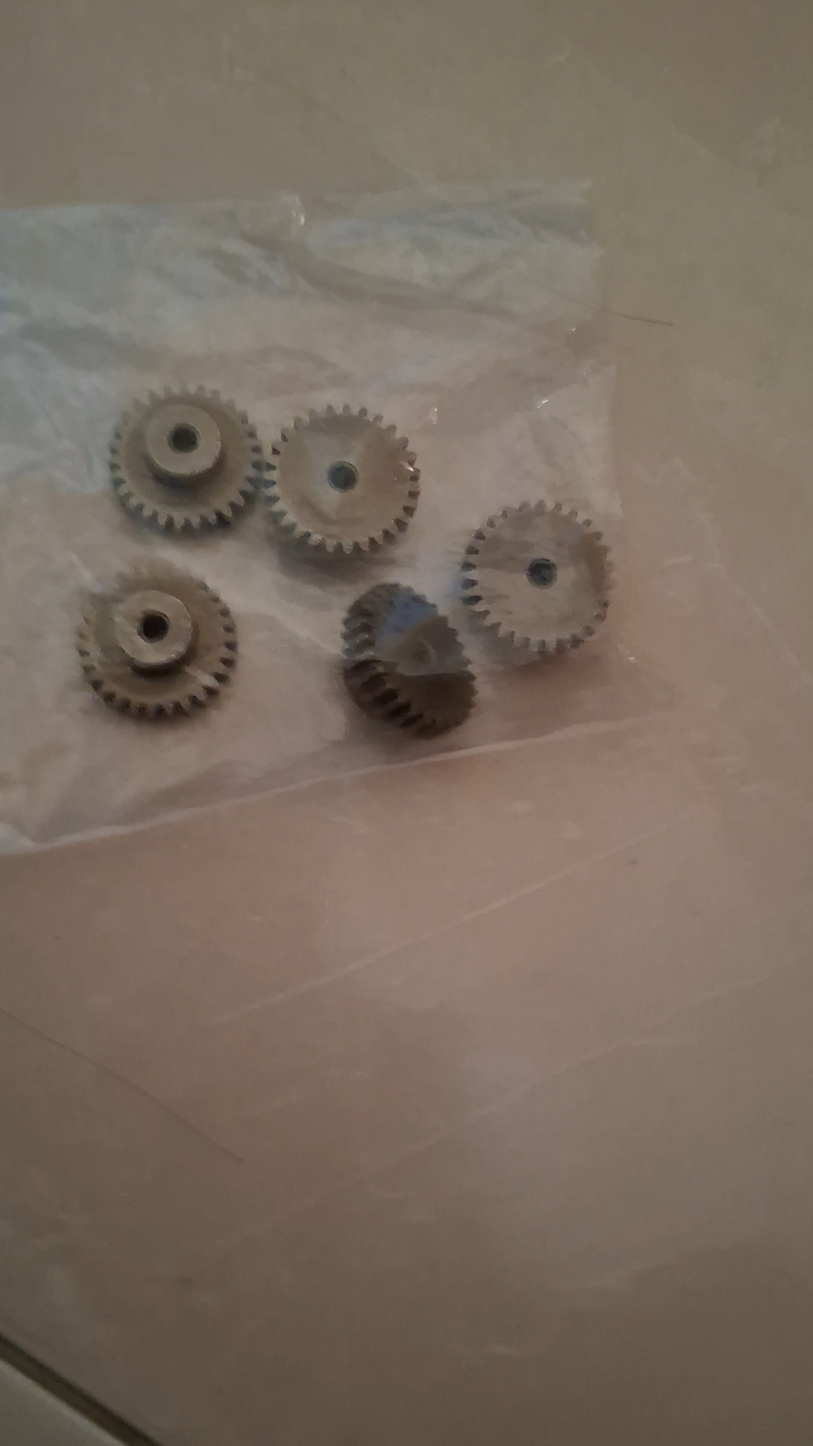spur gear: (77, 564, 237, 719), (265, 405, 419, 554), (462, 502, 611, 653), (110, 387, 264, 531), (344, 583, 475, 737)
